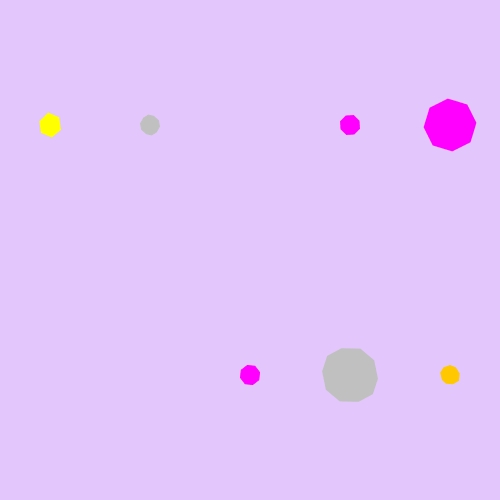decagon: (317, 345, 383, 405), (135, 111, 165, 139)
hexagon: (34, 111, 67, 139)
nonagon: (436, 361, 465, 389)
octagon: (420, 95, 480, 155), (335, 110, 365, 140), (235, 360, 265, 390)
